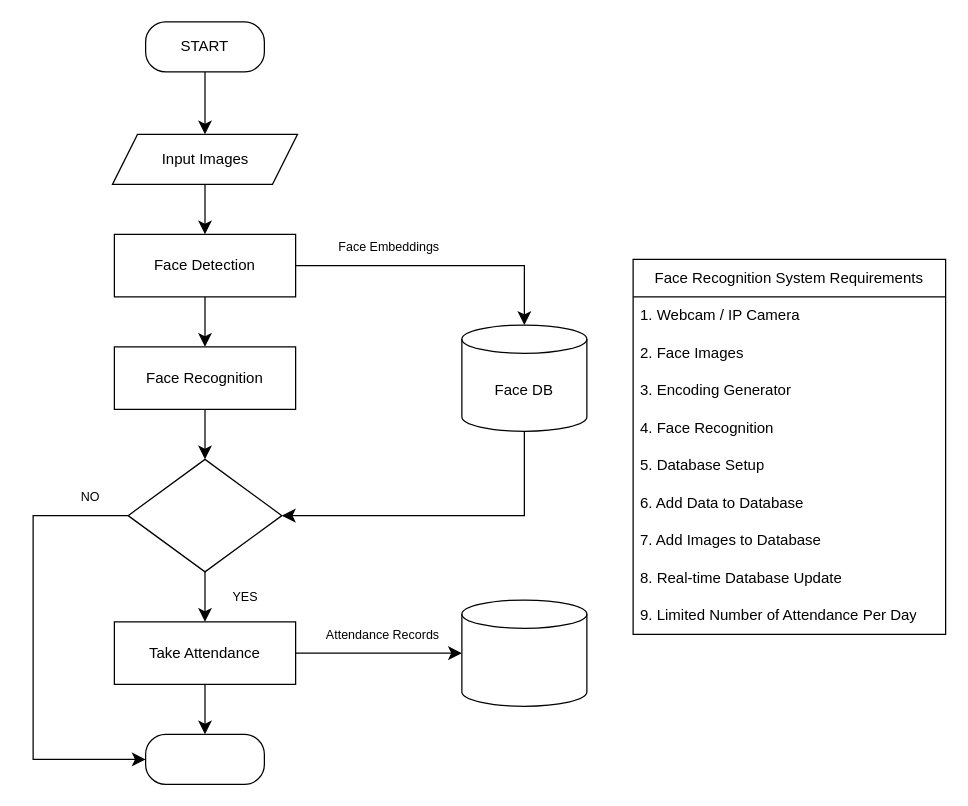
Image size: 968x806. Some labels were removed from this diagram. Each missing label, with the box of its shape:
Attendance DB: (461, 599, 587, 706)
EXIT: (144, 733, 264, 784)
IF Face is in DB: (127, 458, 282, 572)
